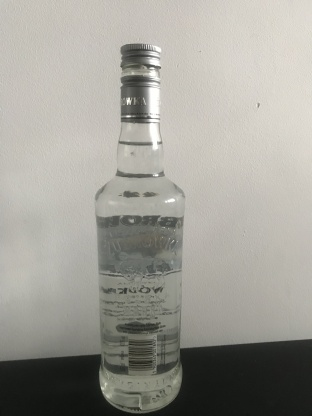nakretka: (118, 42, 162, 124)
